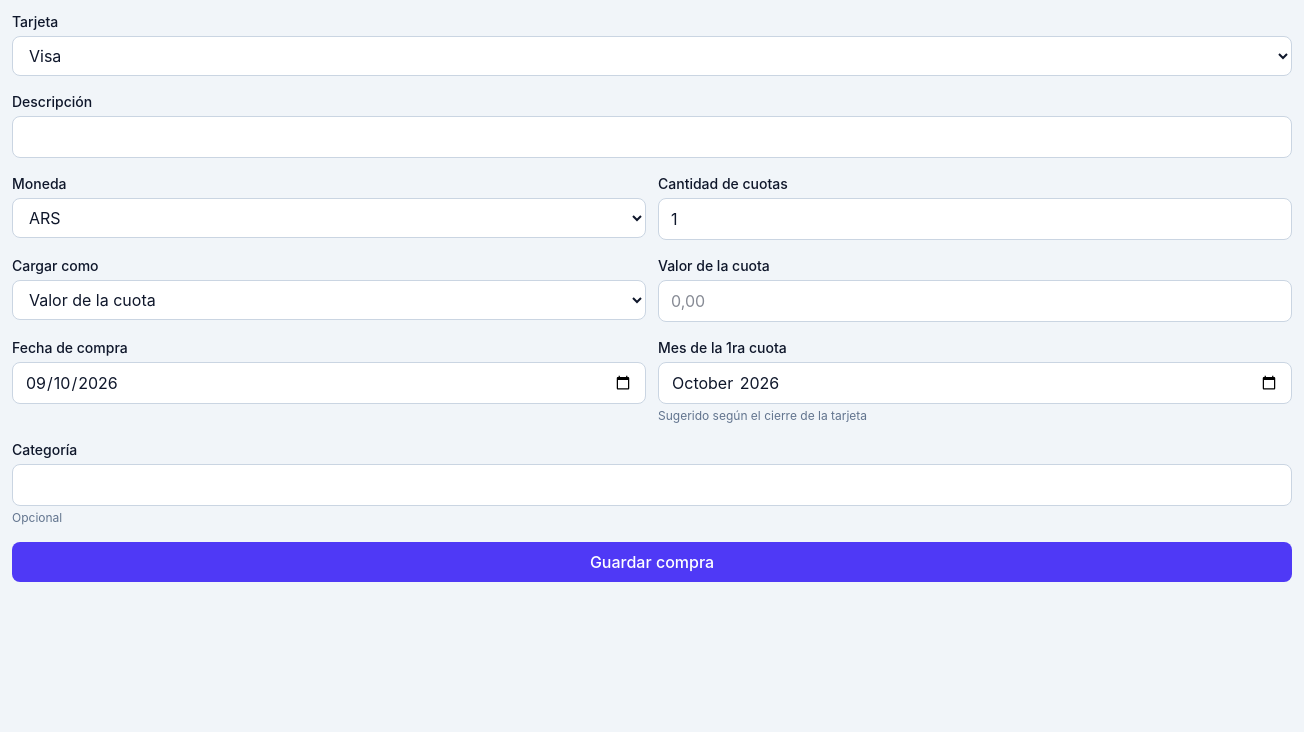
Scenario: PurchaseForm › muestra Monto inválido y no guarda
In the field labelled "Descripción": (652, 137) left=12, top=116, right=1292, bottom=158, type "Algo"
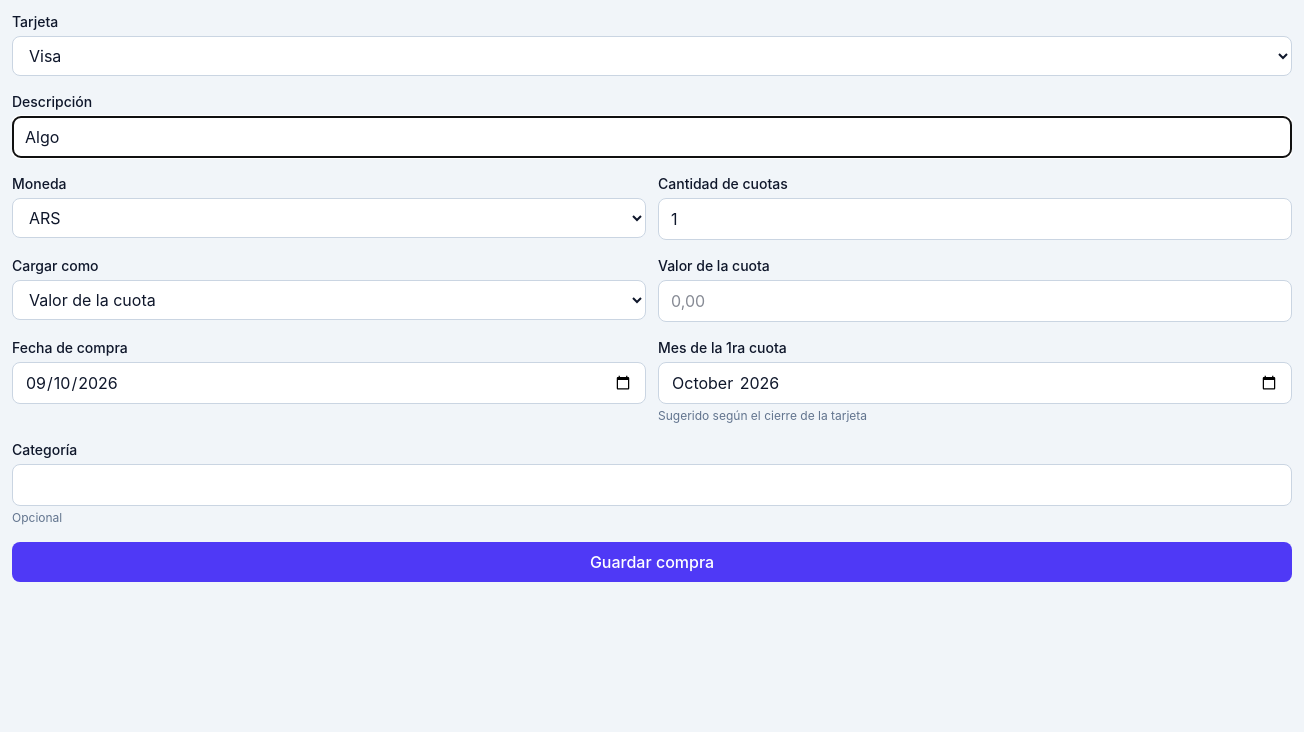
In the field labelled "Valor de la cuota": (975, 301) left=658, top=280, right=1292, bottom=322, type "abc"
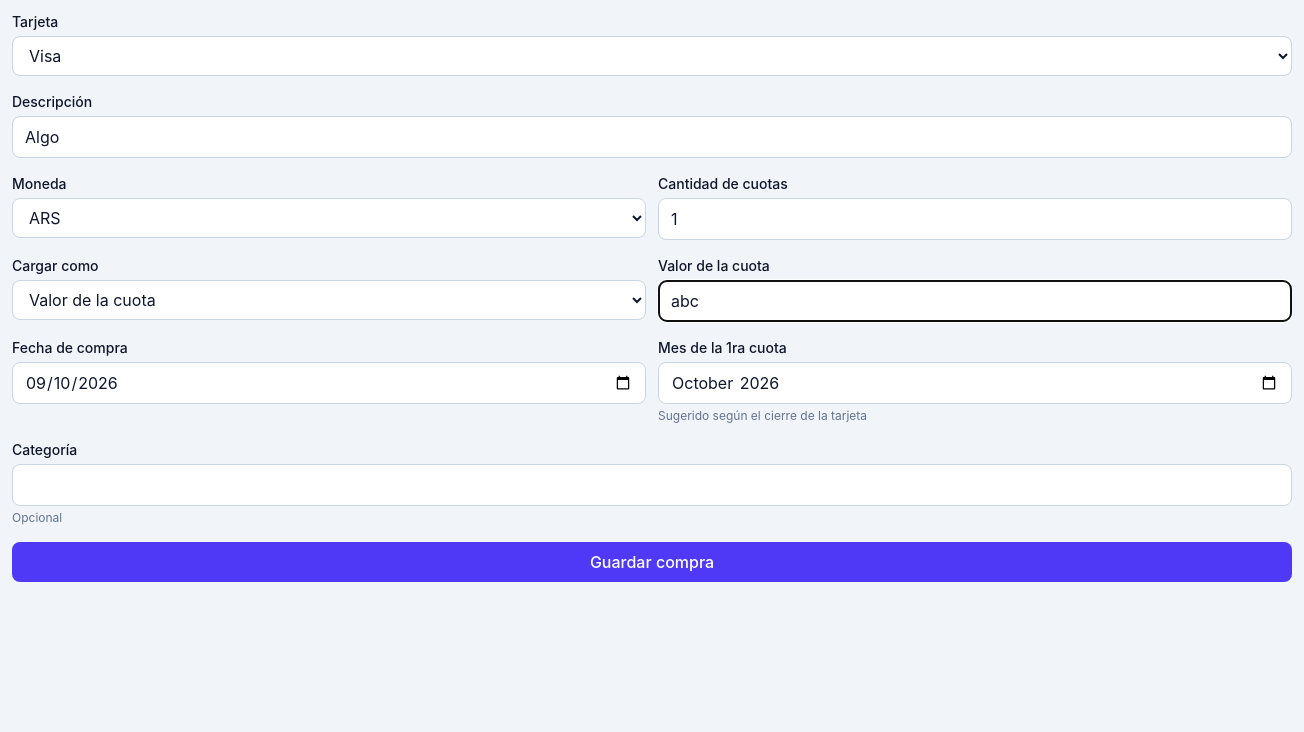
Click the button "Guardar compra": (652, 562) left=12, top=542, right=1292, bottom=582
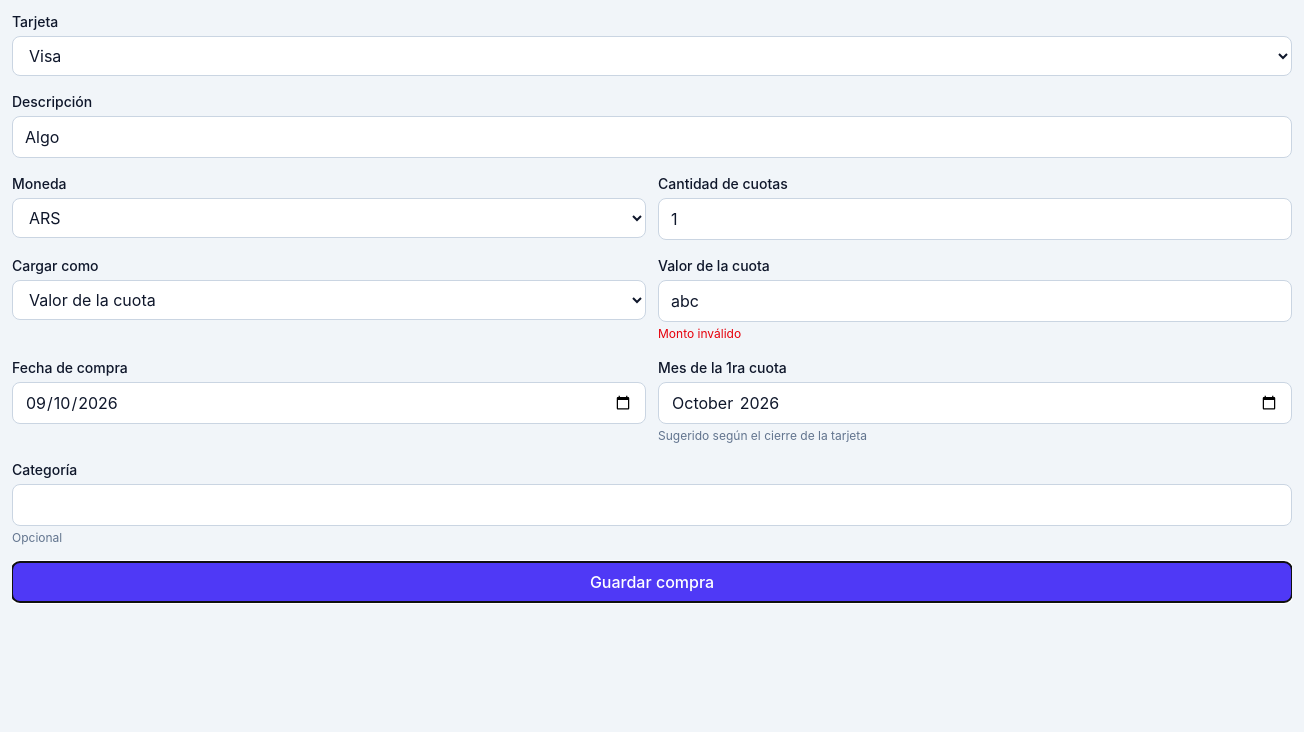
Expected: the text "Monto inválido" is shown, left=658, top=326, right=741, bottom=341
